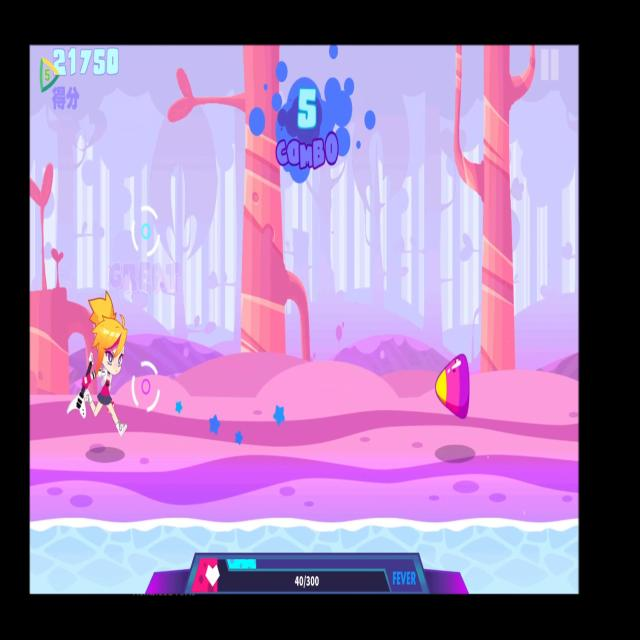jian: (432, 347, 474, 431)
